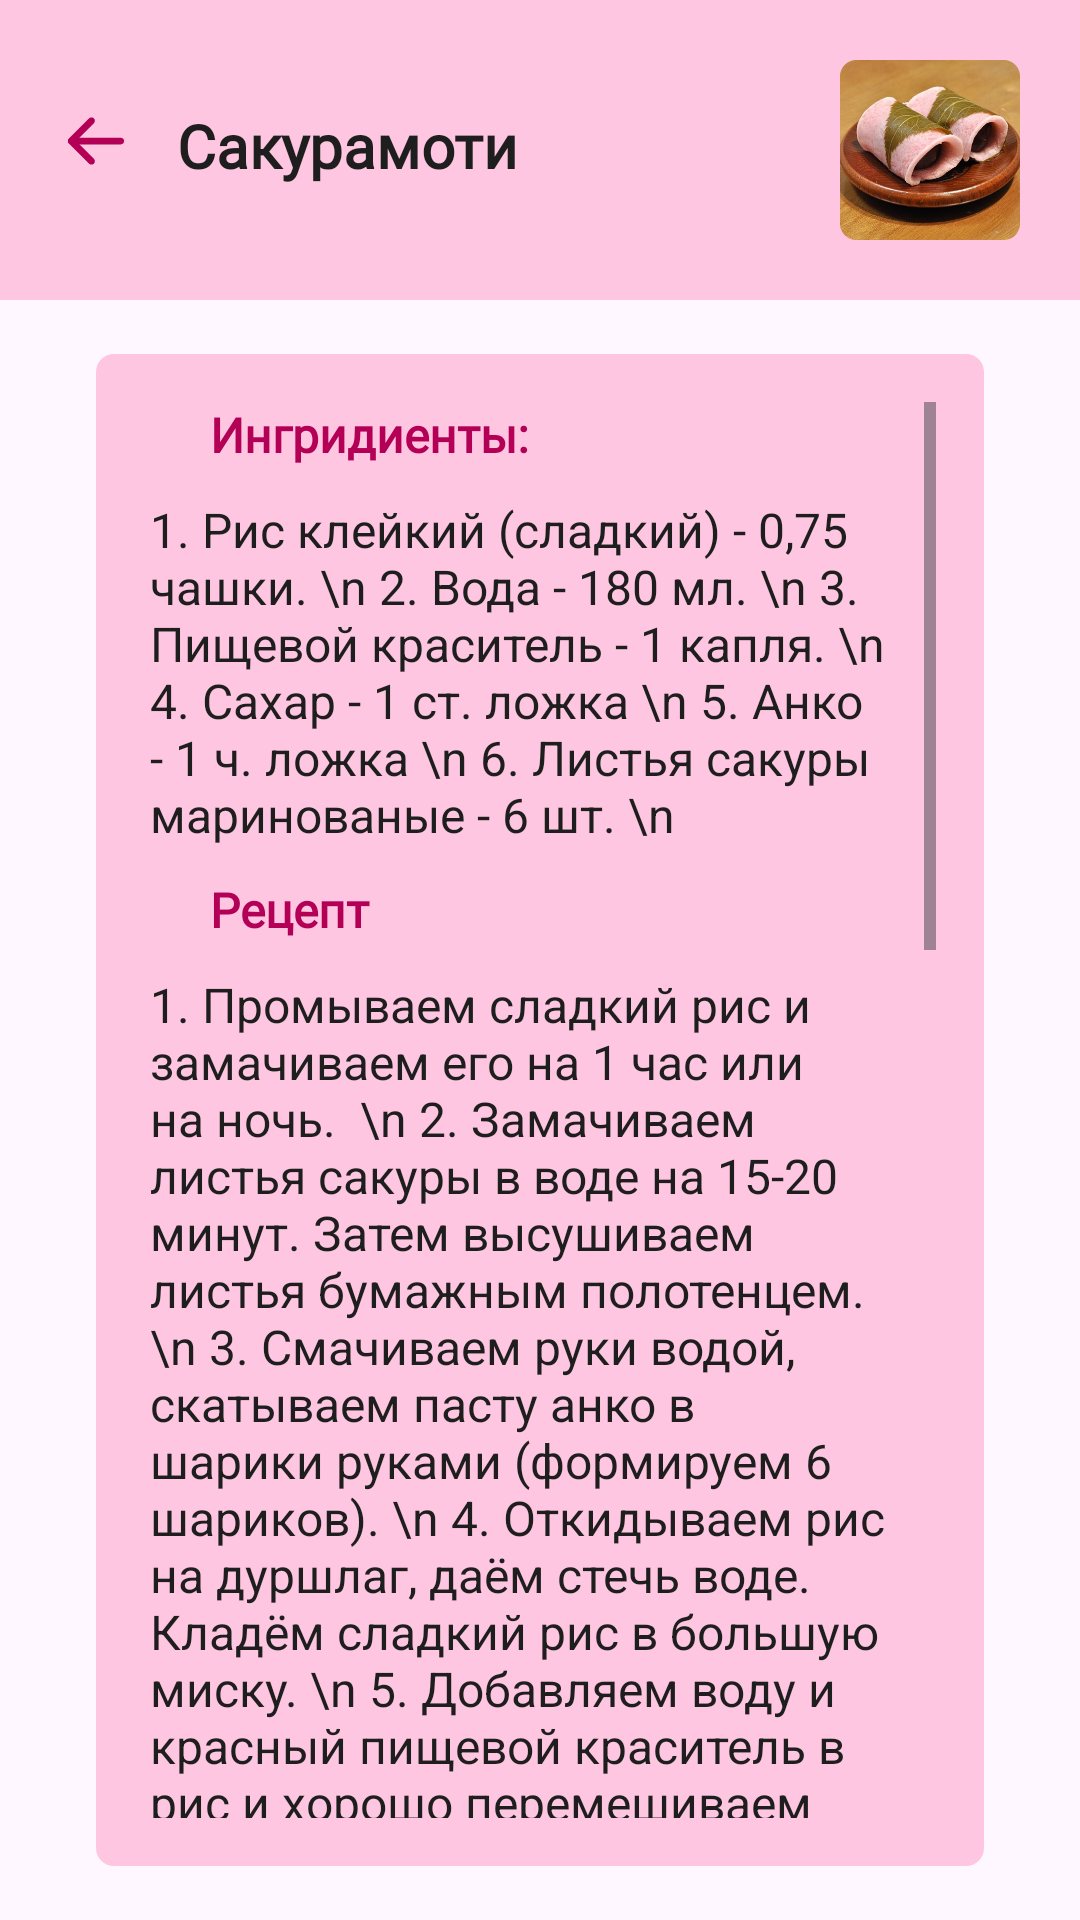

Icons on this 1080×1920 Android screen, each with its box as (left=x1, top=y1, right=x2, bottom=y2):
second back: (left=68, top=117, right=124, bottom=165)
